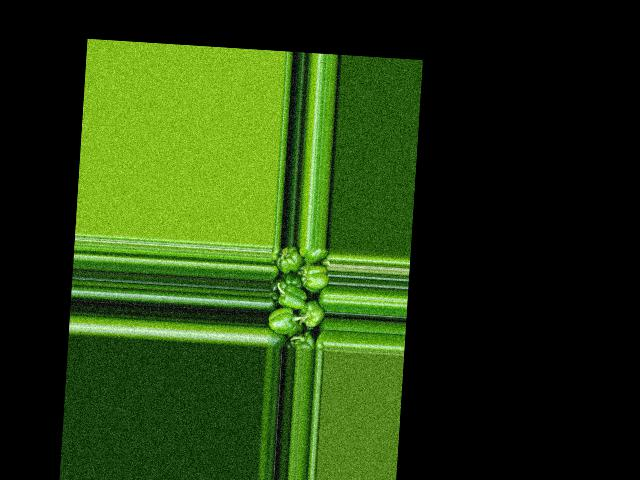bell_pepper: (265, 324, 286, 349)
